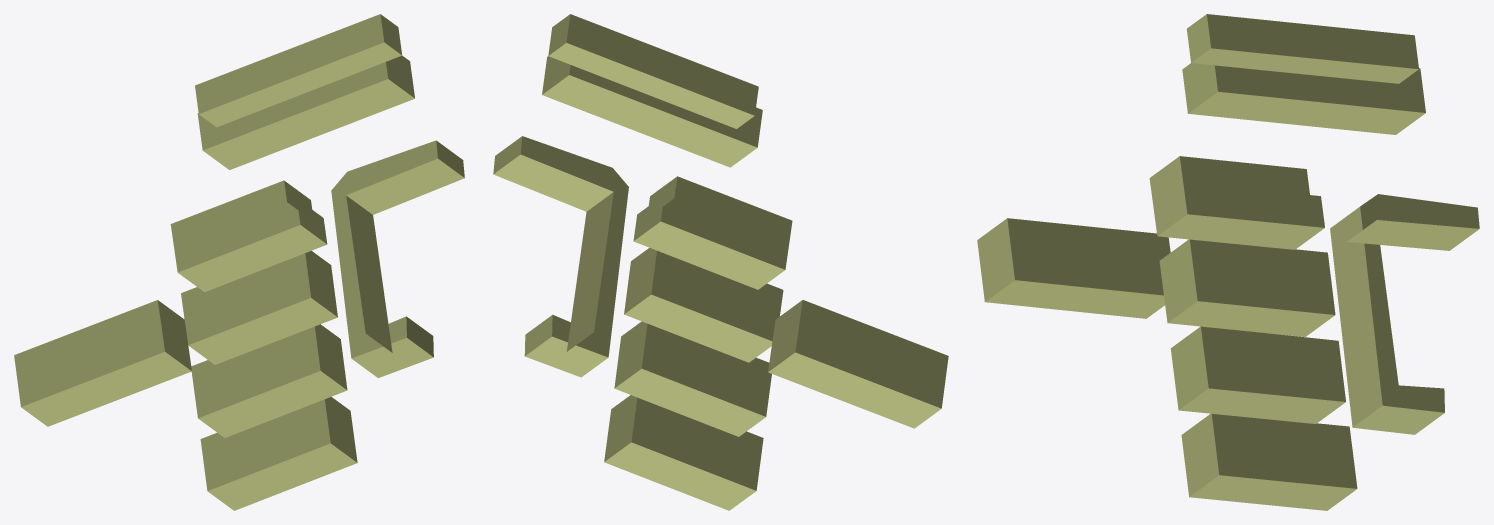
3 renders of one model, left to right at view 1: azimuth 30°, elevation 25°; view 2: azimuth 150°, elevation 25°; view 3: azimuth 330°, elevation 25°, orthographic. The views are drawn at different scales.
Visible parts, largest first — view 1: 0_1_3_2_1_1_1_1; view 2: 0_1_3_2_1_1_1_1; view 3: 0_1_3_2_1_1_1_1.
Boxes of the visible parts, x1=… form: 0_1_3_2_1_1_1_1: x1=14, y1=14, x2=464, y2=510; 0_1_3_2_1_1_1_1: x1=493, y1=14, x2=948, y2=510; 0_1_3_2_1_1_1_1: x1=977, y1=14, x2=1479, y2=510.
Bounding box in the file's own units: 81.63 × 80.16 × 9.7.
